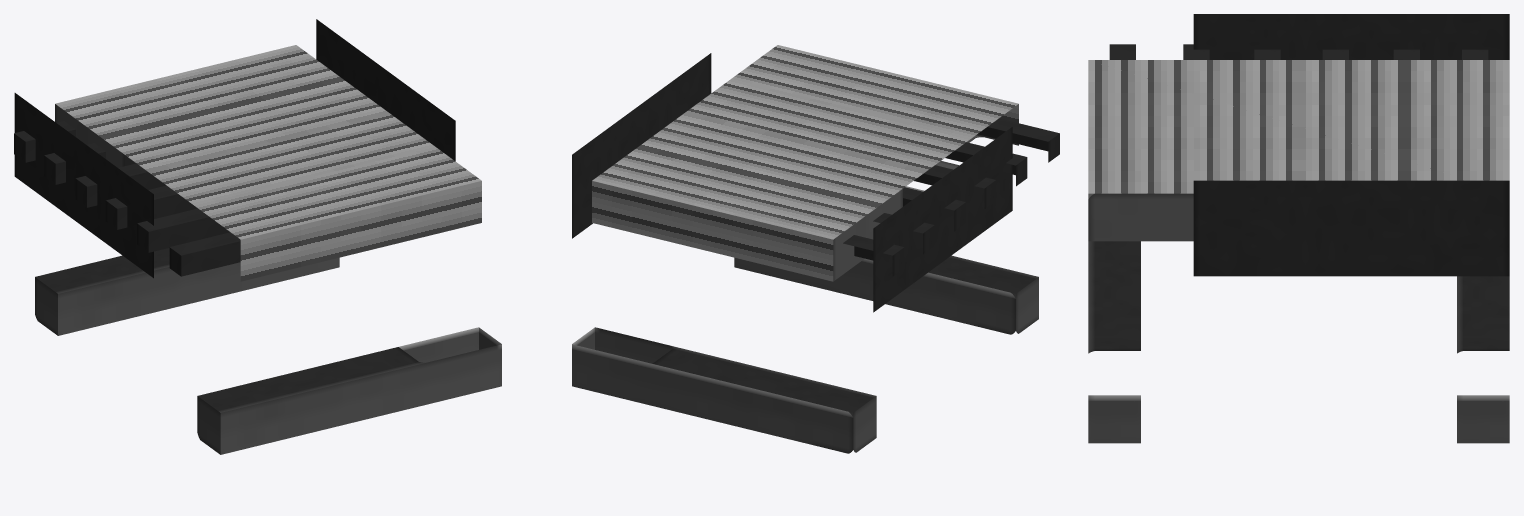
Rendered from conveyor_belt.obj.
3 views of the same model, side by side, from view 1: azimuth 30°, elevation 25°; view 2: azimuth 150°, elevation 25°; view 3: azimuth 270°, elevation 25° (orthographic). The views are drawn at different scales.
Parts seen in each view (by area): view 1: belt, back_leg3, front_leg3, panel_left, panel_right, axis2, axis1, axis3, axis4, Object_22, axis5, axis6; view 2: belt, front_leg3, panel_left, back_leg3, panel_right, Object_22, axis1, axis6, axis2, axis3, axis4; view 3: belt, panel_right, panel_left, back_leg3, front_leg3, Object_22.
Part boxes in pixels (x1=…): belt: x1=55, y1=45, x2=481, y2=281; back_leg3: x1=197, y1=327, x2=501, y2=454; front_leg3: x1=35, y1=248, x2=339, y2=335; panel_left: x1=14, y1=93, x2=153, y2=278; panel_right: x1=316, y1=19, x2=455, y2=160; axis2: x1=137, y1=208, x2=229, y2=252; axis1: x1=169, y1=232, x2=240, y2=276; axis3: x1=105, y1=185, x2=197, y2=229; axis4: x1=75, y1=163, x2=166, y2=207; Object_22: x1=55, y1=104, x2=124, y2=167; axis5: x1=44, y1=143, x2=136, y2=184; axis6: x1=14, y1=121, x2=75, y2=162; belt: x1=592, y1=45, x2=1018, y2=281; front_leg3: x1=572, y1=327, x2=876, y2=453; panel_left: x1=873, y1=127, x2=1012, y2=312; back_leg3: x1=734, y1=255, x2=1038, y2=334; panel_right: x1=572, y1=53, x2=711, y2=238; Object_22: x1=833, y1=135, x2=983, y2=281; axis1: x1=977, y1=118, x2=1059, y2=162; axis6: x1=843, y1=235, x2=904, y2=276; axis2: x1=945, y1=142, x2=1027, y2=186; axis3: x1=914, y1=165, x2=995, y2=208; axis4: x1=903, y1=187, x2=965, y2=231; belt: x1=1088, y1=60, x2=1509, y2=193; panel_right: x1=1193, y1=180, x2=1509, y2=276; panel_left: x1=1193, y1=14, x2=1509, y2=59; back_leg3: x1=1088, y1=241, x2=1140, y2=443; front_leg3: x1=1457, y1=276, x2=1509, y2=443; Object_22: x1=1088, y1=193, x2=1193, y2=241.
Bounding box in the file's own units: 1.06 × 0.8125 × 1.
